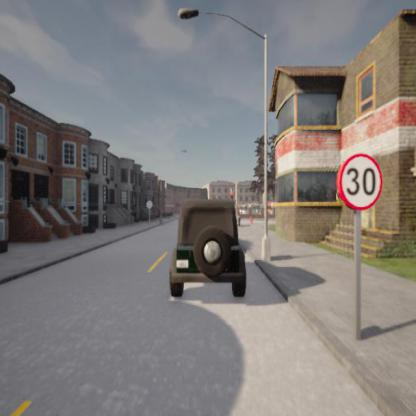traffic_sign_30: (336, 152, 384, 209)
vehicle: (169, 197, 248, 300)
